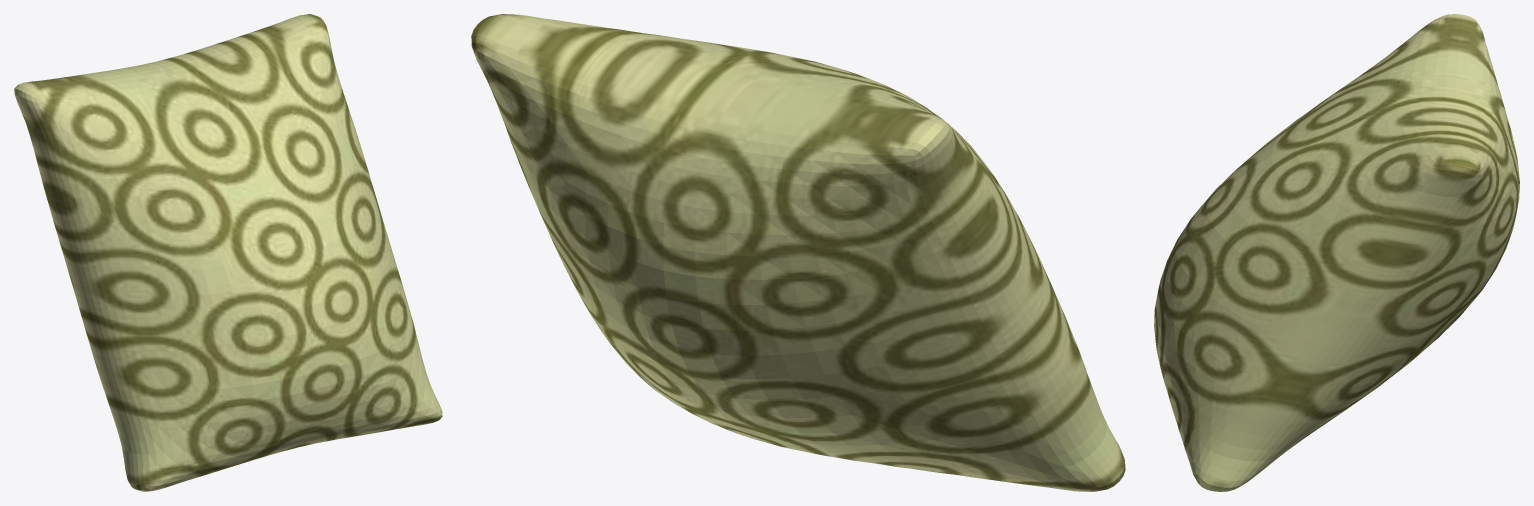
The model's file is sh-contrib-throw-pillow.glb.
3 views of the same model, side by side, from view 1: azimuth 30°, elevation 25°; view 2: azimuth 150°, elevation 25°; view 3: azimuth 270°, elevation 25° (orthographic). The views are drawn at different scales.
Visible parts, largest first — view 1: PolyMesh_1; view 2: PolyMesh_1; view 3: PolyMesh_1.
Part boxes in pixels (<box>): PolyMesh_1: <box>14,14,442,491</box>; PolyMesh_1: <box>471,14,1125,491</box>; PolyMesh_1: <box>1154,14,1519,491</box>.
Bounding box in the file's own units: 1 × 1 × 1.
Materials: 1 (1 with a texture image).
